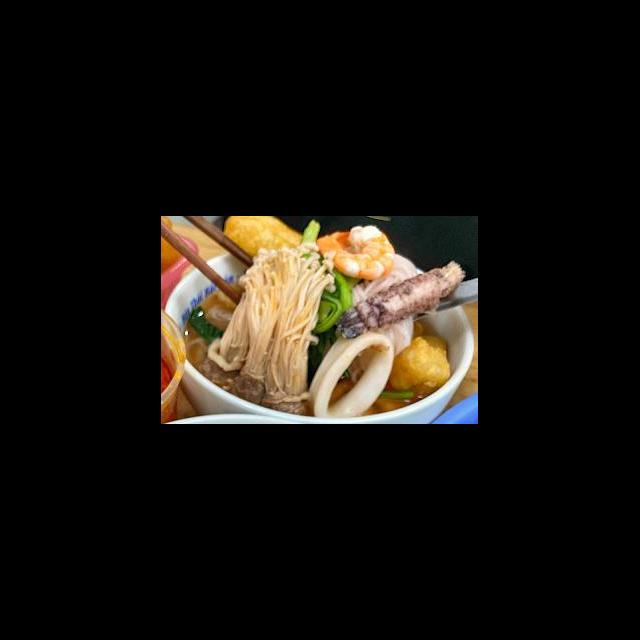bun: (344, 251, 420, 359)
bun hai san: (168, 230, 477, 422)
dau hu: (386, 331, 454, 398), (222, 217, 310, 264)
muc: (306, 325, 398, 423)
tom: (312, 221, 398, 282)
tom tit: (332, 256, 470, 342)
